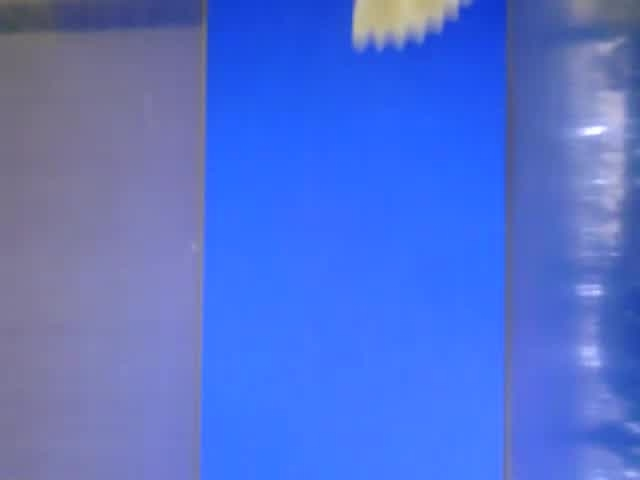farfalle: (349, 1, 476, 51)
